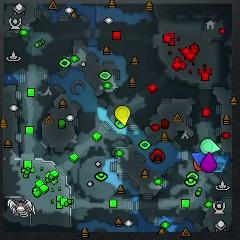p1: (190, 152, 208, 165)
p2: (200, 139, 221, 154)
p3: (200, 152, 216, 173)
p4: (115, 106, 132, 125)
p5: (193, 160, 202, 172)
